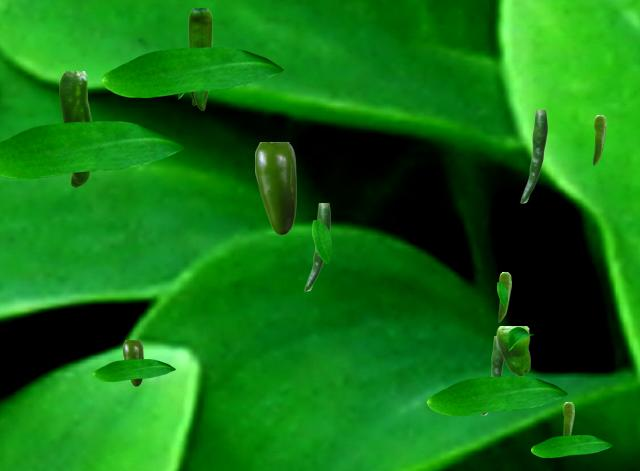green_chili: (255, 142, 295, 234), (59, 71, 90, 186), (520, 110, 546, 202), (188, 8, 211, 109), (304, 203, 329, 290), (481, 336, 503, 414), (496, 326, 529, 375), (123, 340, 142, 385), (498, 272, 510, 321), (593, 115, 605, 164), (562, 402, 573, 434), (190, 93, 195, 104)
